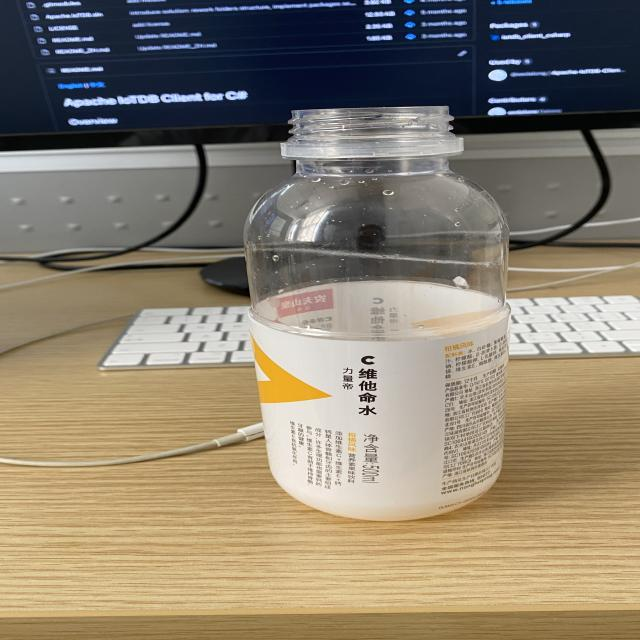Anorganik: (250, 92, 512, 519)
